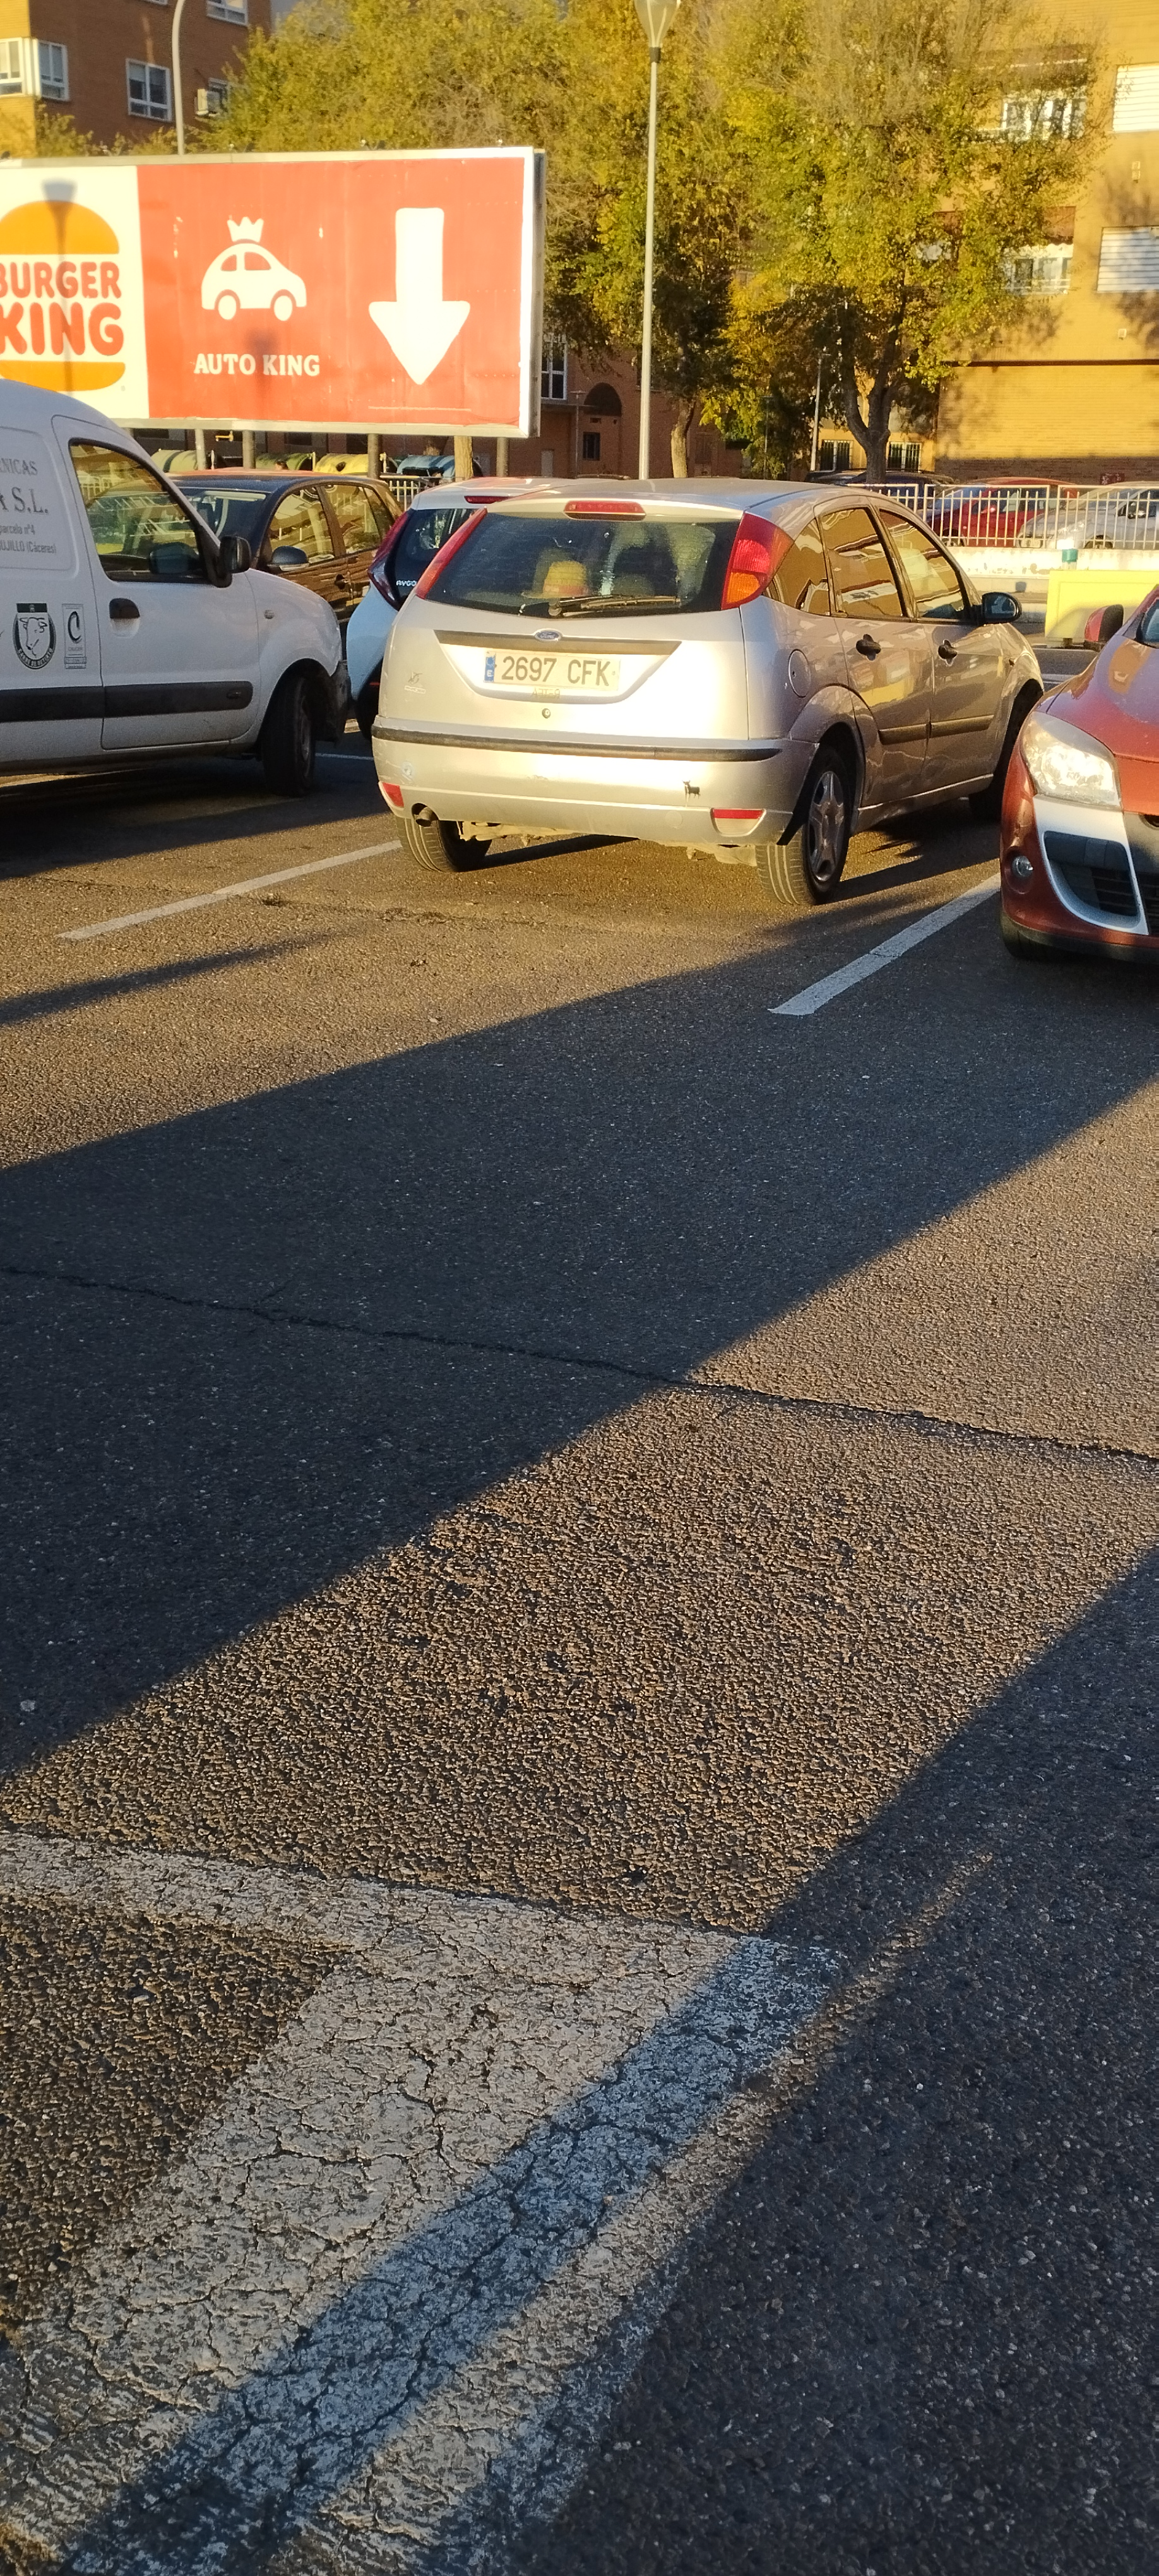Car: (369, 487, 1025, 880)
Plate: (480, 650, 615, 690)
